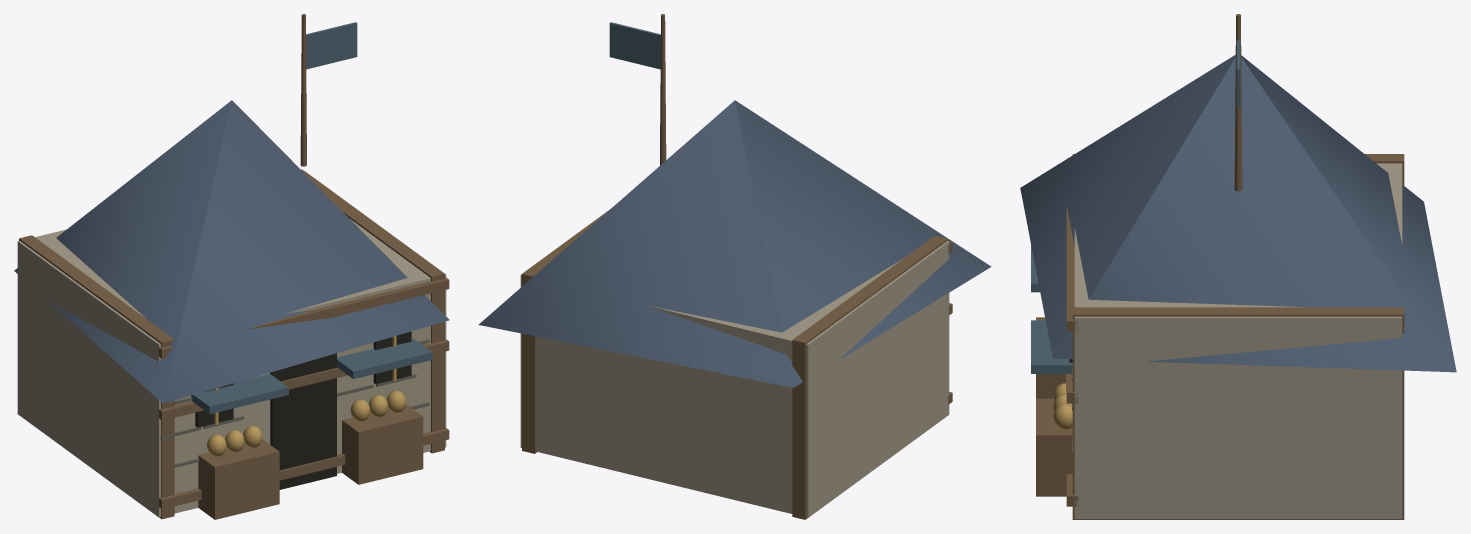
Rendered from b-market-french.glb.
3 views of the same model, side by side, from view 1: azimuth 30°, elevation 25°; view 2: azimuth 150°, elevation 25°; view 3: azimuth 270°, elevation 25° (orthographic). The views are drawn at different scales.
Parts seen in each view (by area): view 1: Structure; view 2: Structure; view 3: Structure.
Part boxes in pixels (bbox=[...]): Structure: bbox=[14, 14, 449, 519]; Structure: bbox=[478, 14, 991, 519]; Structure: bbox=[1020, 14, 1456, 519].
Size of the model in its own units: 4.53 by 5.33 by 4.53.
